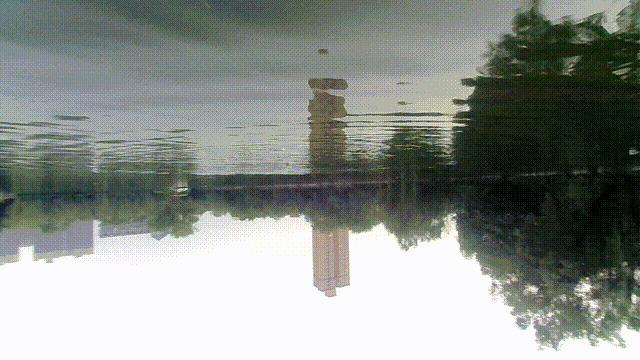Plastic: (626, 145, 637, 158)
